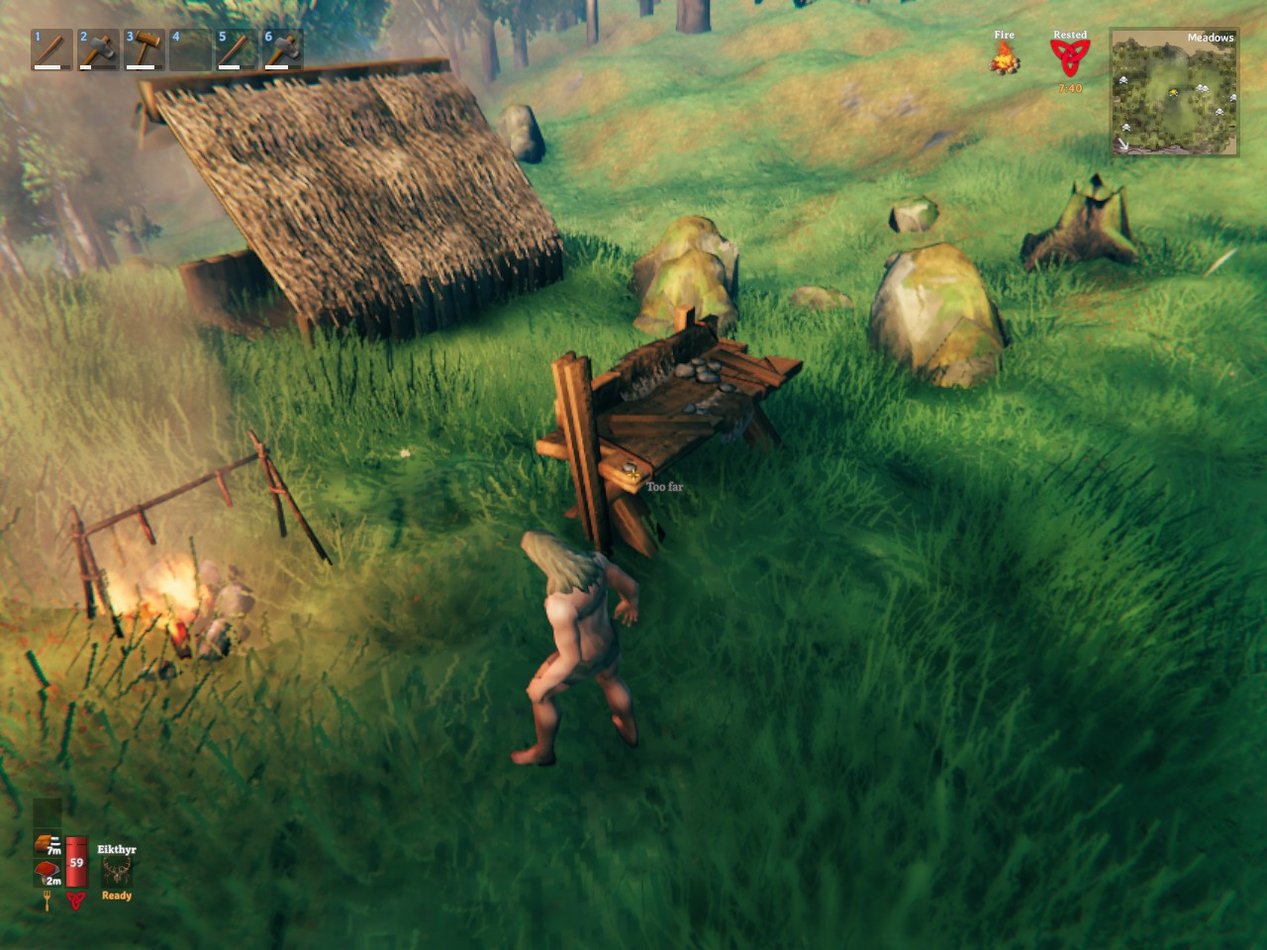Cook Station: (71, 430, 329, 619)
Fire: (106, 554, 246, 644)
Food Indicator: (36, 797, 63, 891)
Health Bar: (63, 820, 90, 891)
Hotbar: (25, 21, 398, 78)
House: (152, 59, 559, 324)
Status Indicator: (968, 25, 1110, 96)
Workbench: (536, 307, 802, 555)
